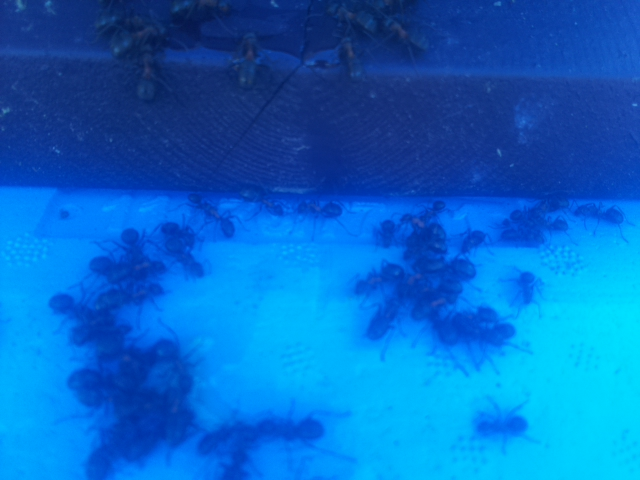ant: (181, 183, 242, 244), (133, 33, 161, 107), (233, 35, 260, 90)
